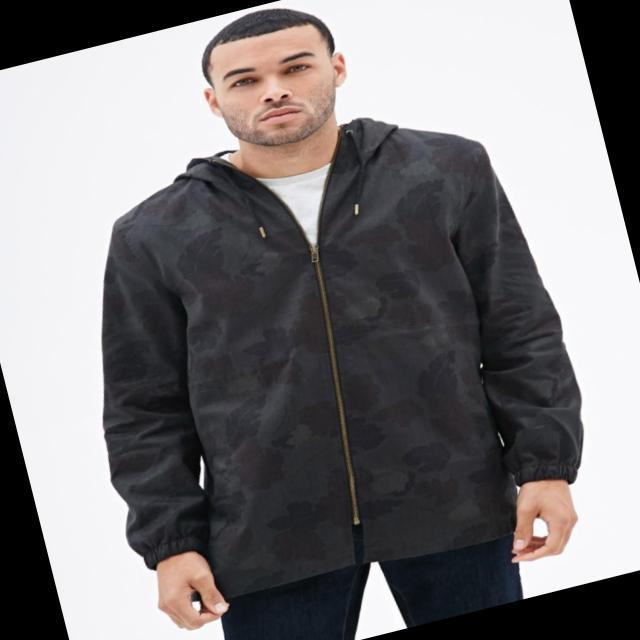jacket: (94, 112, 585, 613)
short sleeve shirt: (216, 146, 338, 245)
trousers: (219, 521, 528, 640)
